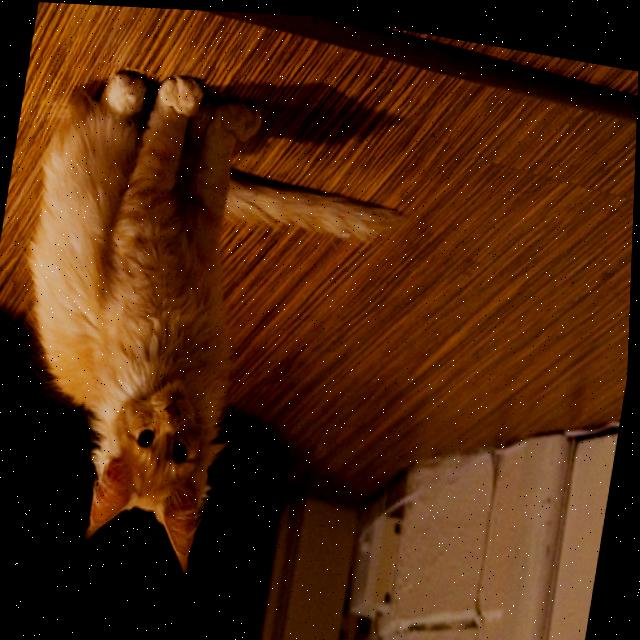Maine Coon: (0, 43, 425, 601)
